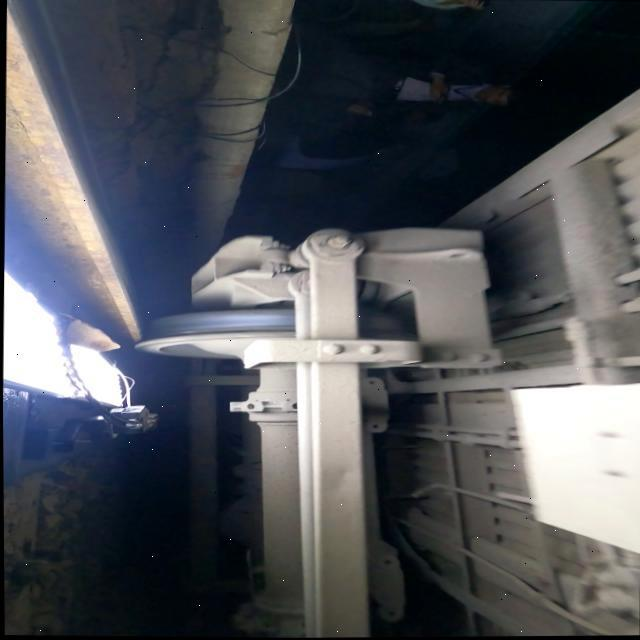Wheel: (132, 308, 294, 358)
